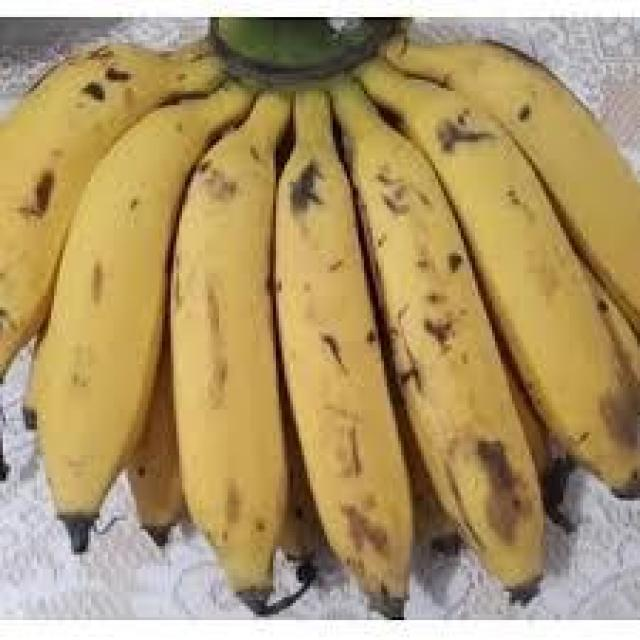Banana: (5, 25, 640, 620), (356, 125, 552, 606), (424, 82, 640, 500), (31, 111, 199, 555), (276, 148, 424, 620), (168, 128, 296, 614)
